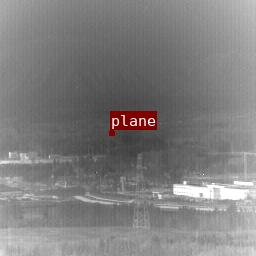plane: (110, 130, 113, 134)
